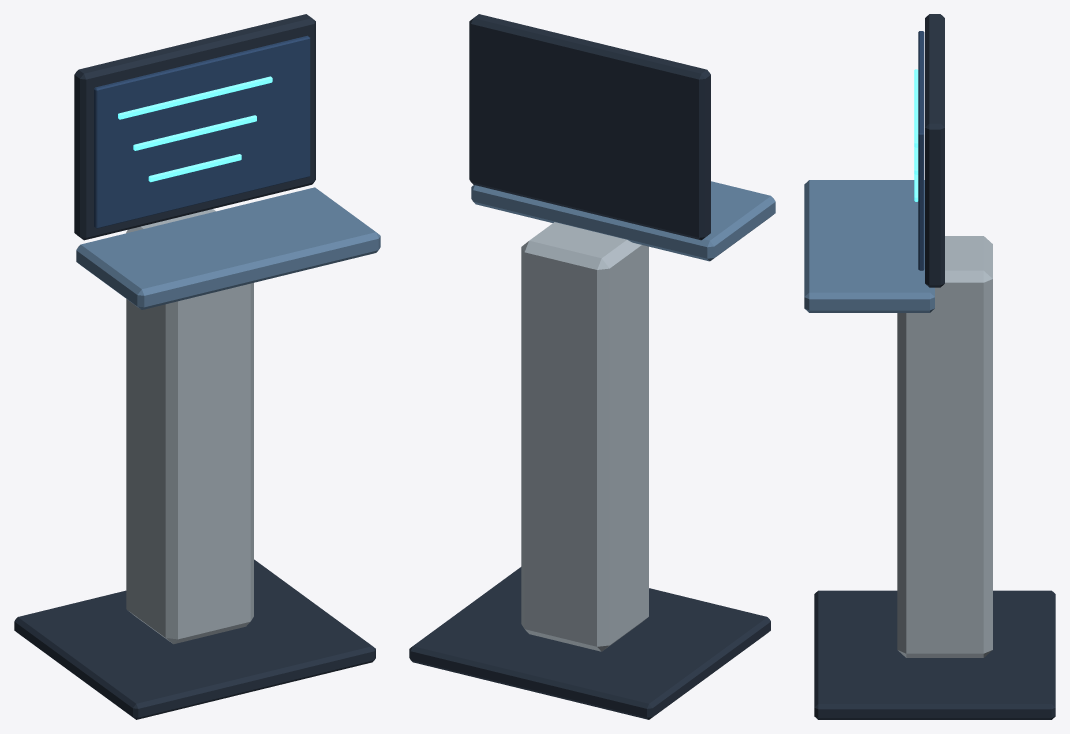
File: campus_04.glb
3 views of the same model, side by side, from view 1: azimuth 30°, elevation 25°; view 2: azimuth 150°, elevation 25°; view 3: azimuth 270°, elevation 25° (orthographic).
Visible parts, largest first — view 1: KioskStand, Screen, KioskFoot, ControlDeck, MonitorFrame, DisplayLine (×3); view 2: KioskStand, MonitorFrame, KioskFoot, ControlDeck; view 3: KioskStand, KioskFoot, ControlDeck, MonitorFrame, Screen.
Boxes of the visible parts, x1,y1,x2,y2 form: KioskStand: (126, 209, 253, 644); Screen: (94, 35, 310, 228); KioskFoot: (14, 559, 375, 719); ControlDeck: (76, 187, 380, 309); MonitorFrame: (74, 14, 315, 240); DisplayLine (×3): (118, 76, 272, 182); KioskStand: (521, 222, 648, 651); MonitorFrame: (469, 14, 710, 240); KioskFoot: (409, 567, 770, 719); ControlDeck: (471, 181, 775, 261); KioskStand: (897, 236, 992, 657); KioskFoot: (814, 590, 1055, 719); ControlDeck: (804, 180, 934, 312); MonitorFrame: (925, 14, 944, 287); Screen: (918, 31, 924, 270).
Size of the model in its own units: 0.55 by 1.3 by 0.5.
